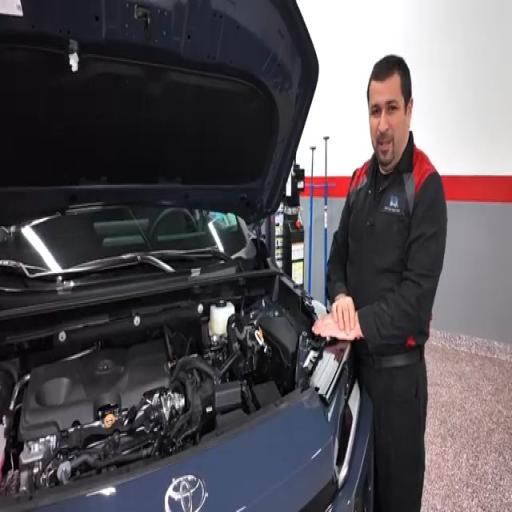bumper: (327, 392, 373, 511)
emblem: (165, 476, 207, 511)
hood: (0, 0, 318, 226)
windshield: (0, 207, 247, 271)
